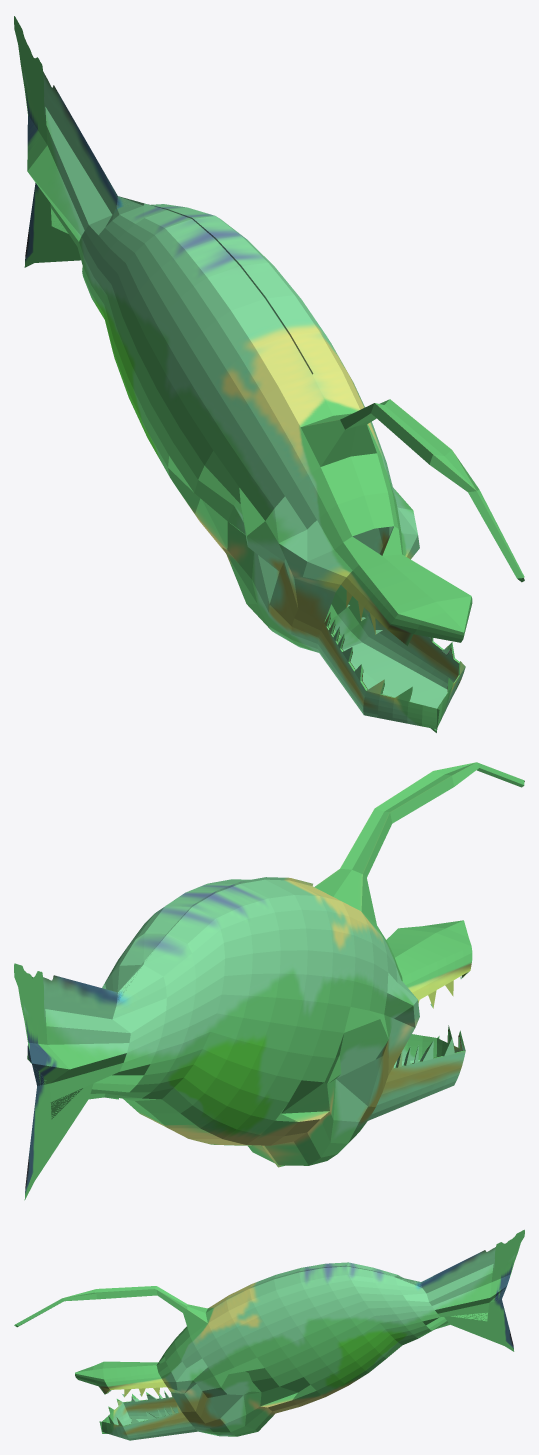
File: Anglerfish.fbx
The picture shows the model from 3 angles, top to bottom: view 1: azimuth 30°, elevation 25°; view 2: azimuth 150°, elevation 25°; view 3: azimuth 270°, elevation 25°; orthographic projection. The views are drawn at different scales.
Visible parts, largest first — view 1: Sphere; view 2: Sphere; view 3: Sphere.
Boxes of the visible parts, <box> form: Sphere: <box>14,16,524,732</box>; Sphere: <box>14,762,524,1200</box>; Sphere: <box>14,1229,524,1440</box>.
Size of the model in its own units: 1.47 by 4.06 by 9.19.
1 material, 1 textured.
